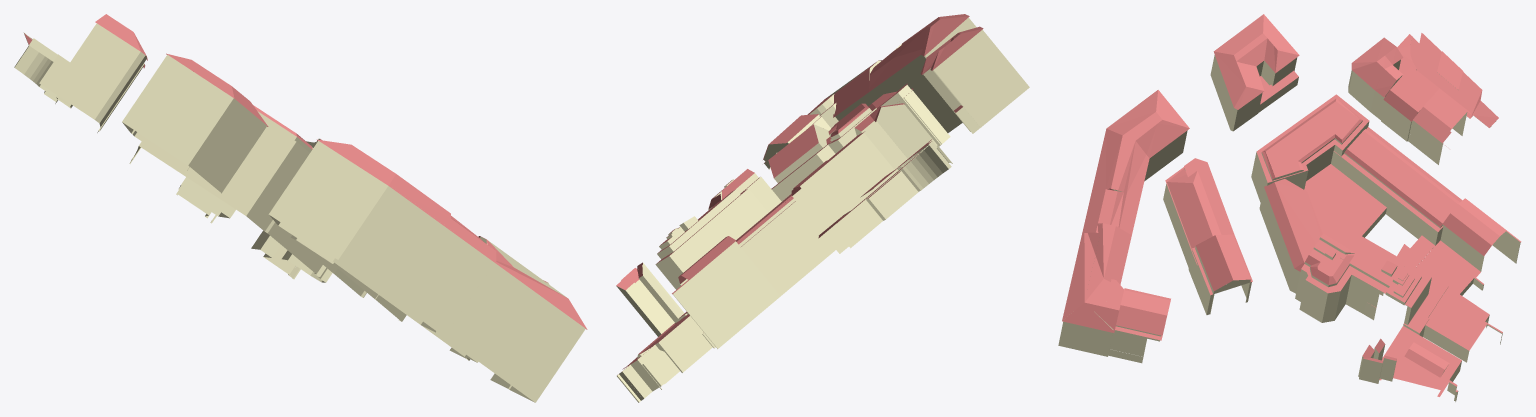
Rendered from tile_020.glb.
The picture shows the model from 3 angles, left to right: view 1: azimuth 30°, elevation 25°; view 2: azimuth 150°, elevation 25°; view 3: azimuth 270°, elevation 25°; orthographic projection. The views are drawn at different scales.
Visible parts, largest first — view 1: Batched_Building_ID_871371FD-71F8-491A-9430-FDA76ECD1D6E, Batched_Building_ID_C48E2696-E17A-41E6-93F6-407700768F8D; view 2: Batched_Building_ID_871371FD-71F8-491A-9430-FDA76ECD1D6E, Batched_Building_ID_C48E2696-E17A-41E6-93F6-407700768F8D; view 3: Batched_Building_ID_C48E2696-E17A-41E6-93F6-407700768F8D, Batched_Building_ID_871371FD-71F8-491A-9430-FDA76ECD1D6E.
Boxes of the visible parts, x1,y1,x2,y2 form: Batched_Building_ID_871371FD-71F8-491A-9430-FDA76ECD1D6E: (14, 23, 585, 402); Batched_Building_ID_C48E2696-E17A-41E6-93F6-407700768F8D: (24, 14, 587, 329); Batched_Building_ID_871371FD-71F8-491A-9430-FDA76ECD1D6E: (616, 17, 1029, 402); Batched_Building_ID_C48E2696-E17A-41E6-93F6-407700768F8D: (616, 14, 983, 371); Batched_Building_ID_C48E2696-E17A-41E6-93F6-407700768F8D: (1062, 14, 1521, 396); Batched_Building_ID_871371FD-71F8-491A-9430-FDA76ECD1D6E: (1058, 55, 1520, 401).
Bounding box in the file's own units: 124 × 119 × 170.
